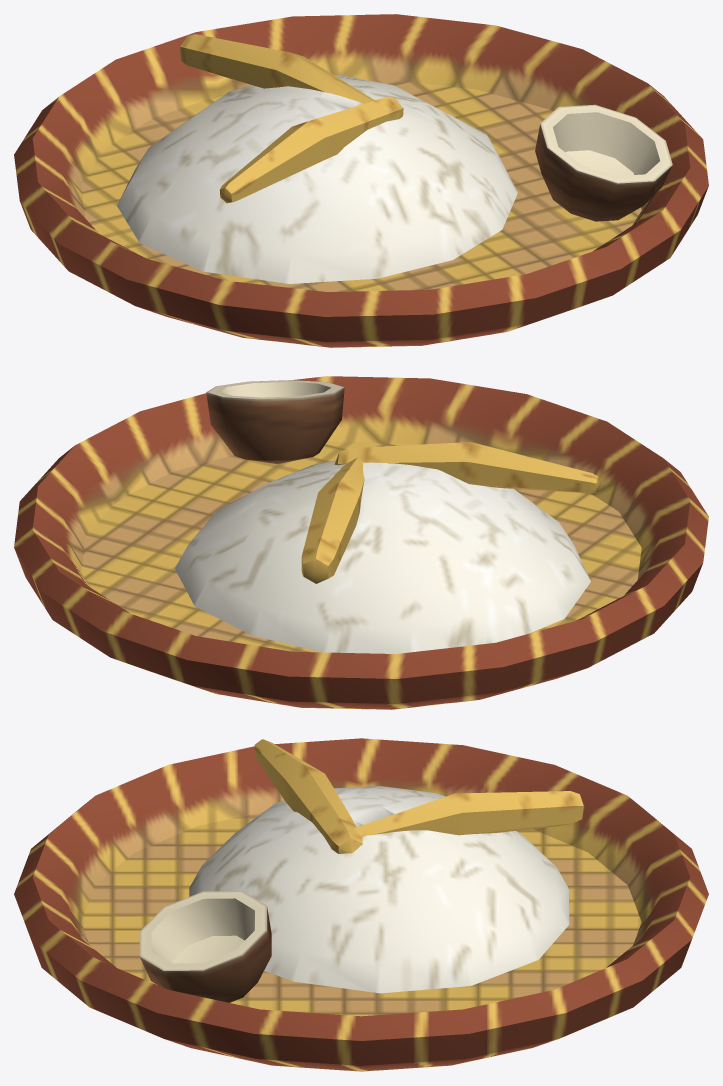
Rendered from bilao_rice.glb.
3 views of the same model, one above another, from view 1: azimuth 30°, elevation 25°; view 2: azimuth 150°, elevation 25°; view 3: azimuth 270°, elevation 25° (orthographic).
Parts seen in each view (by area): view 1: bilao_rice; view 2: bilao_rice; view 3: bilao_rice.
Part boxes in pixels (box(x1,y1,x2,y2)): bilao_rice: box(14, 14, 708, 347); bilao_rice: box(14, 376, 708, 709); bilao_rice: box(14, 738, 708, 1071).
Size of the model in its own units: 0.8556 by 0.1955 by 0.8556.
Materials: 1 (1 with a texture image).
